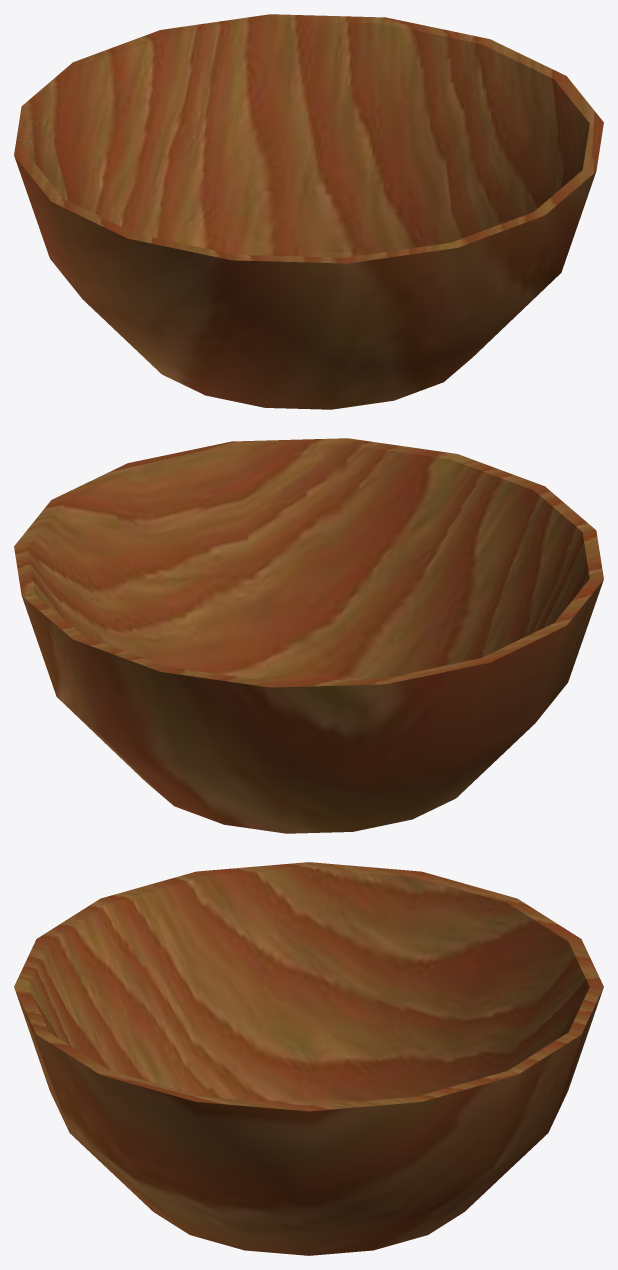
The model's file is Dw_Bowl.glb.
3 views of the same model, one above another, from view 1: azimuth 30°, elevation 25°; view 2: azimuth 150°, elevation 25°; view 3: azimuth 270°, elevation 25° (orthographic).
Visible parts, largest first — view 1: Dw_Bowl; view 2: Dw_Bowl; view 3: Dw_Bowl.
Part boxes in pixels (left/top/right/bottom): Dw_Bowl: left=14, top=14, right=603, bottom=409; Dw_Bowl: left=14, top=438, right=603, bottom=833; Dw_Bowl: left=14, top=862, right=603, bottom=1255.
Size of the model in its own units: 0.1398 by 0.0517 by 0.1398.
Materials: 1 (1 with a texture image).
